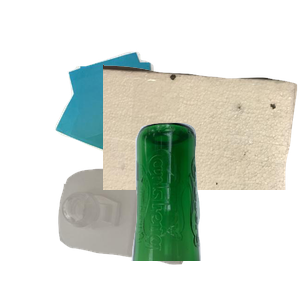glass: (129, 120, 300, 300)
paper: (52, 49, 209, 198)
plastic: (56, 166, 241, 300)
trash: (103, 62, 300, 242)
